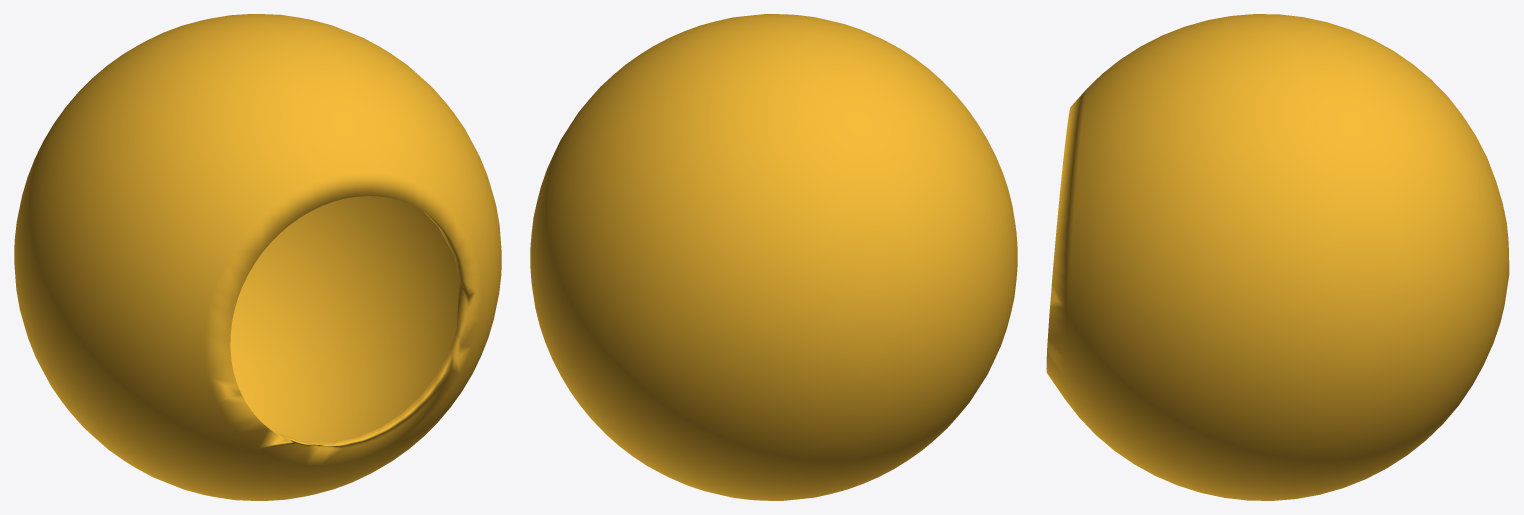
Rendered from nervoso-sclera-r.glb.
3 views of the same model, side by side, from view 1: azimuth 30°, elevation 25°; view 2: azimuth 150°, elevation 25°; view 3: azimuth 270°, elevation 25° (orthographic).
Visible parts, largest first — view 1: Sclera.r; view 2: Sclera.r; view 3: Sclera.r.
Boxes of the visible parts, left/top/right/bottom form: Sclera.r: left=14, top=14, right=501, bottom=500; Sclera.r: left=530, top=14, right=1017, bottom=500; Sclera.r: left=1046, top=14, right=1509, bottom=500.
Size of the model in its own units: 0.0262 by 0.0262 by 0.0249.
